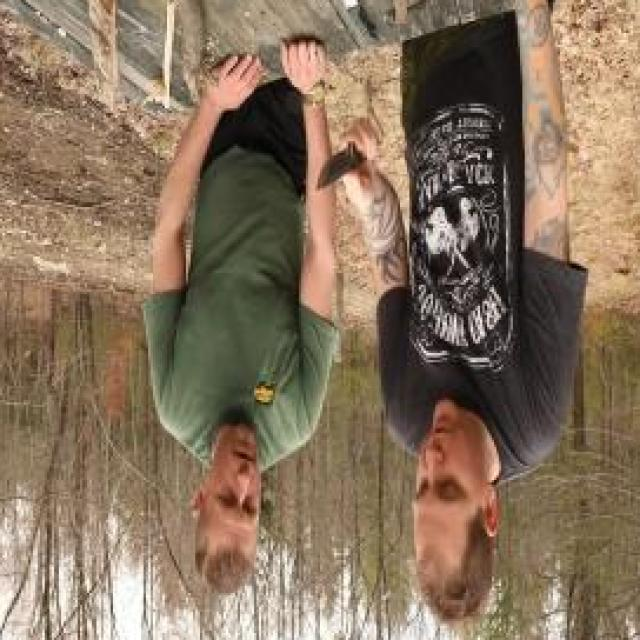knife: (308, 114, 381, 205)
